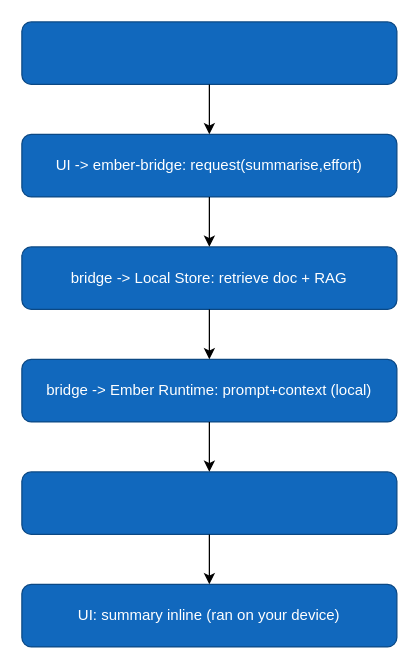
This 419x669 diagram has some shape labels left out. Each missing label, with the centre of its shape:
"Ember -> bridge: streamed completion" goes at pixel 209 502.
"User: Summarise this document" goes at pixel 209 52.
